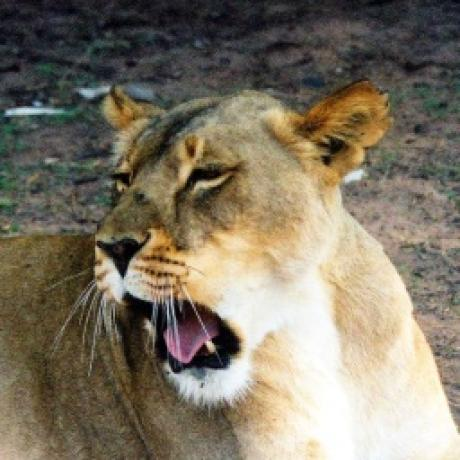Lion: (0, 80, 460, 460)
